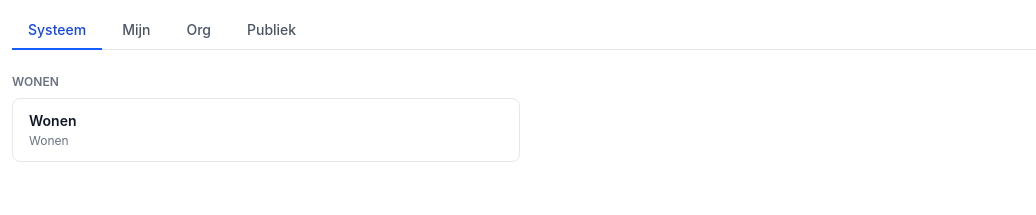
Test: <TemplateGalleryStep> › switching to Mijn fetches templates and renders them with tile/source hints
This screenshot has width=1036, height=215.
Step 1. Click the tab "Mijn" → (136, 31), box 106,12 -> 166,50
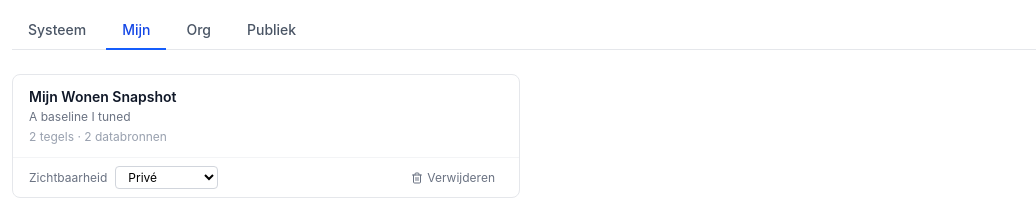
Expected: the text "Mijn Wonen Snapshot" is shown, 29,88 -> 176,105
Expected: the text "2 tegels · 2 databronnen" is shown, 29,129 -> 167,144
